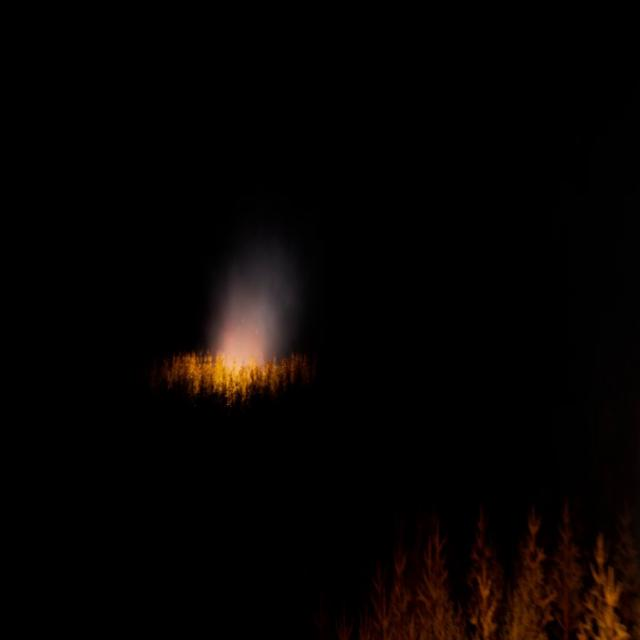smoke: (207, 243, 300, 368)
